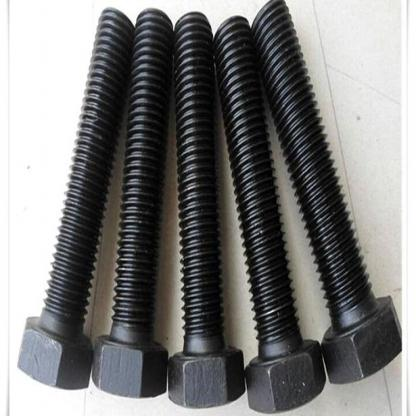FOD: (252, 0, 401, 387), (212, 12, 328, 414), (12, 5, 133, 390), (90, 7, 174, 398), (166, 11, 245, 411)
